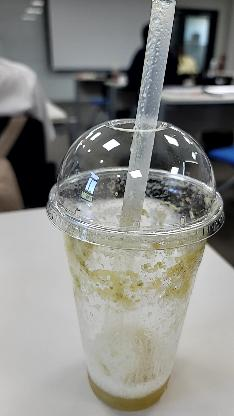Plastic Cup: (48, 117, 226, 411), (44, 116, 226, 248)
